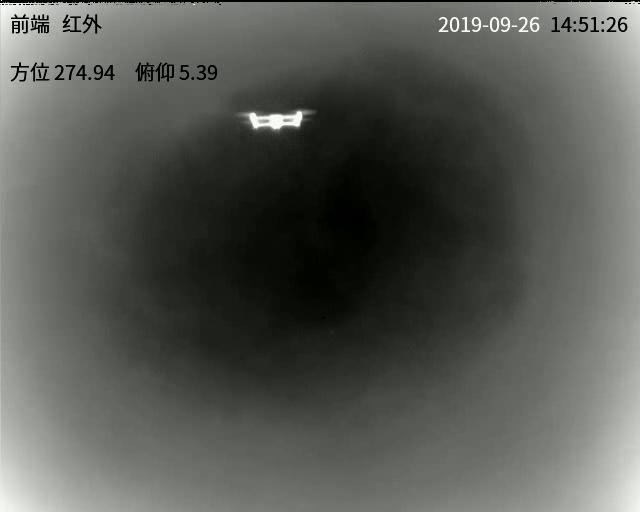DRONE: (245, 110, 309, 129)
